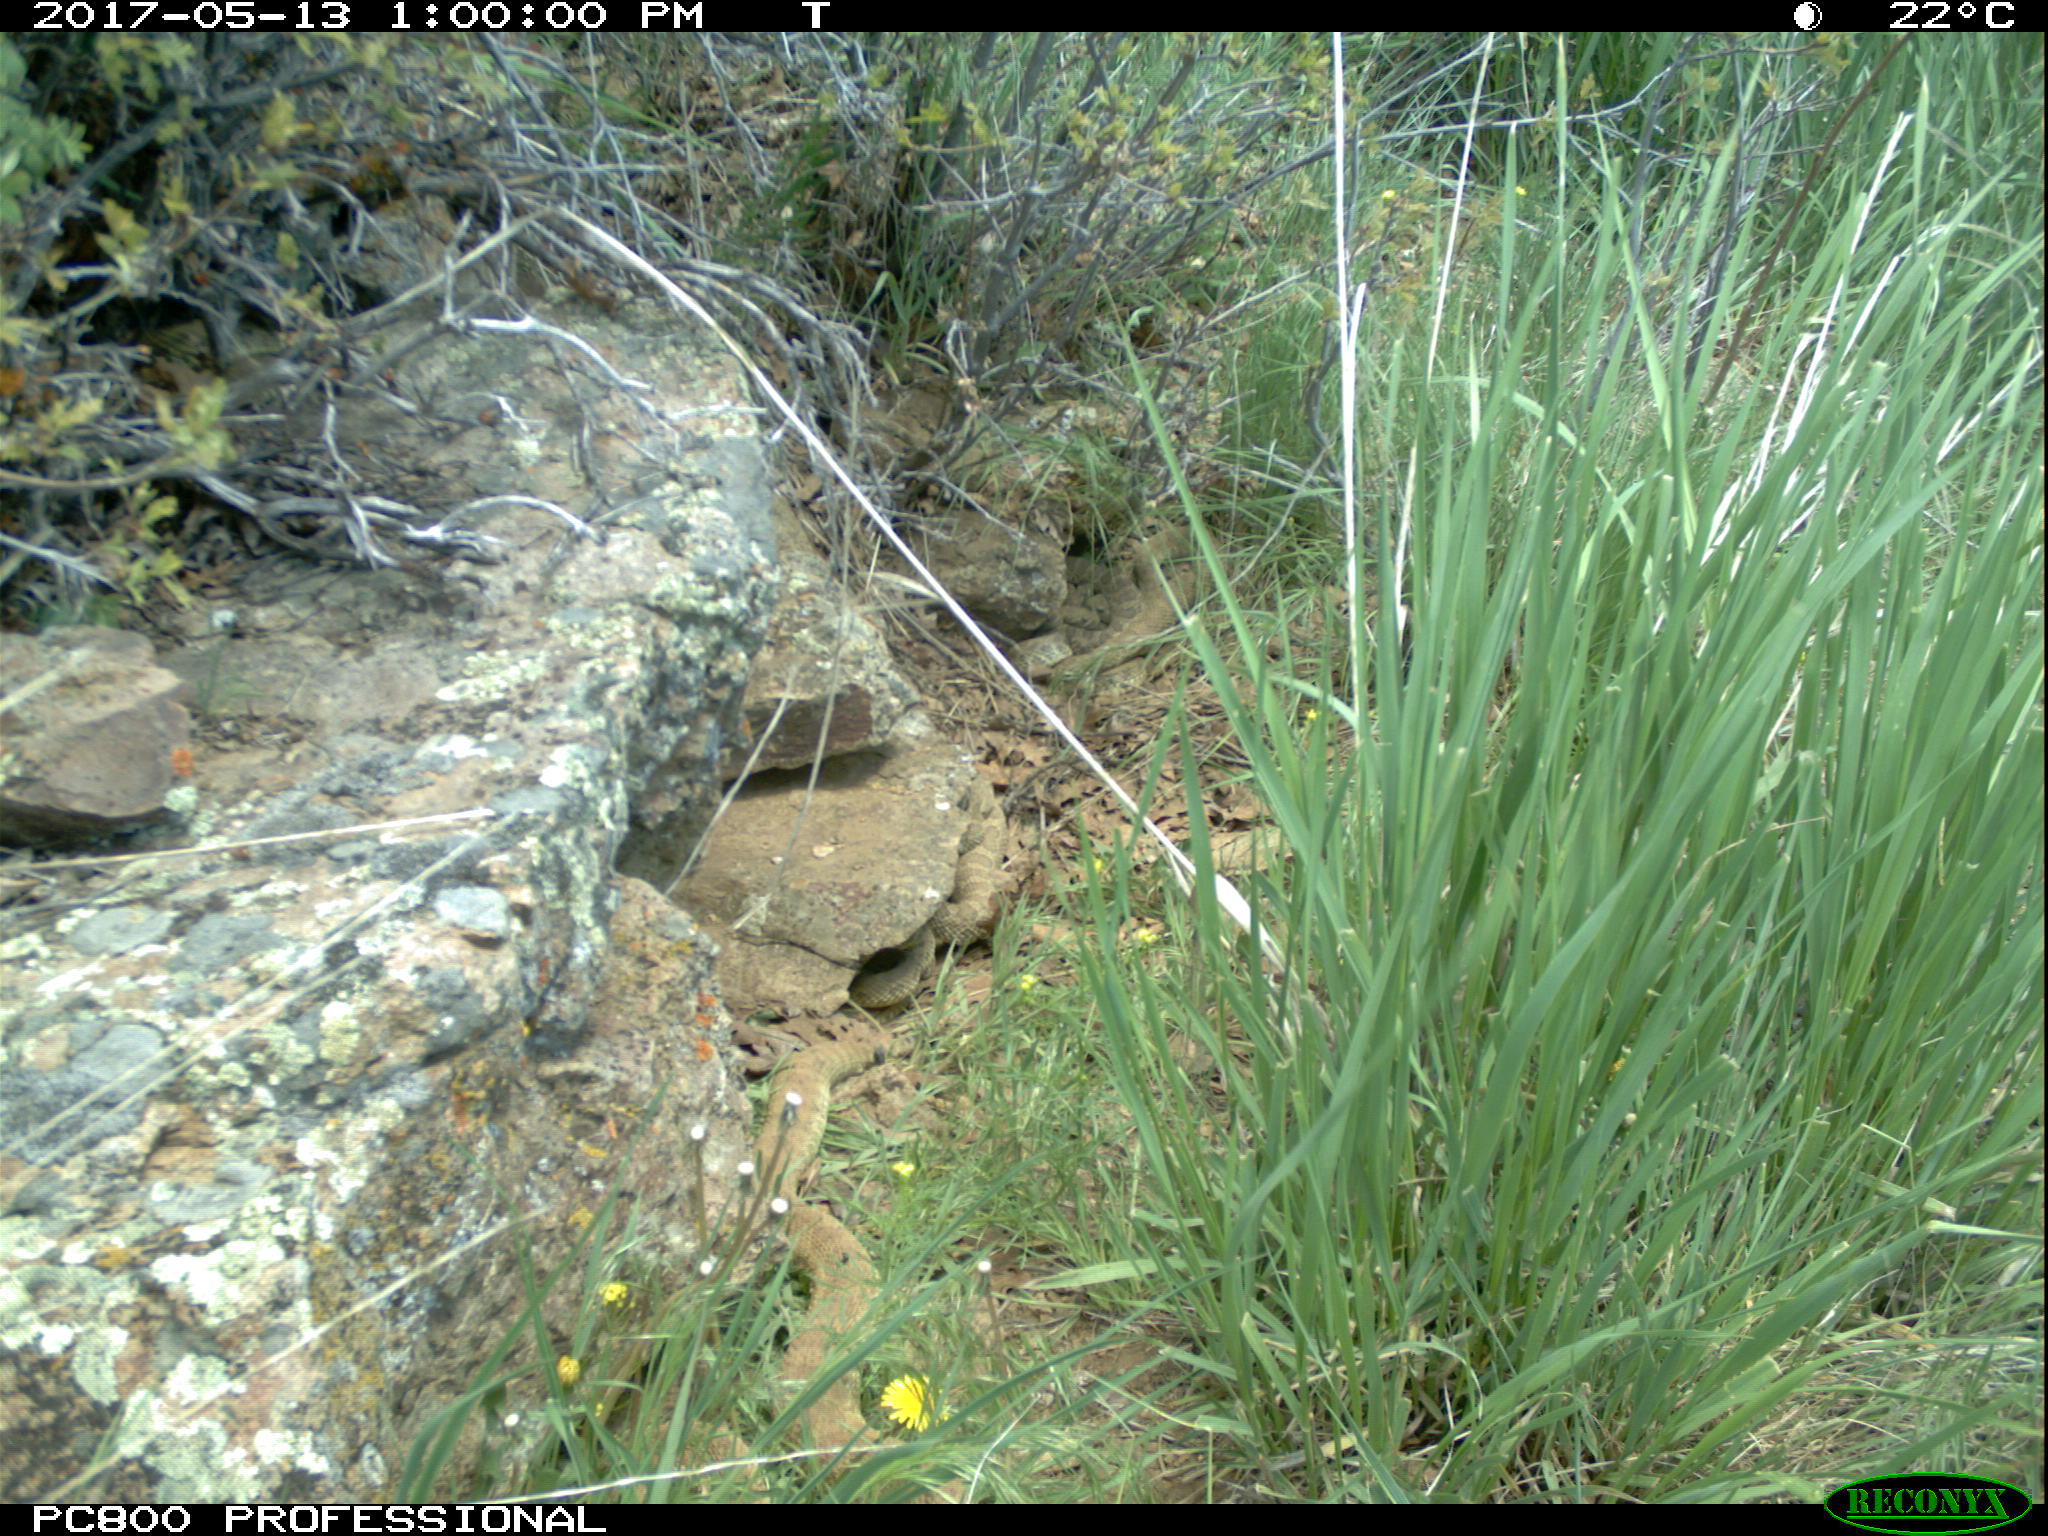snake: (755, 1029, 892, 1480), (1048, 550, 1151, 668), (1138, 528, 1251, 624), (947, 787, 1009, 944), (860, 941, 939, 1018)
